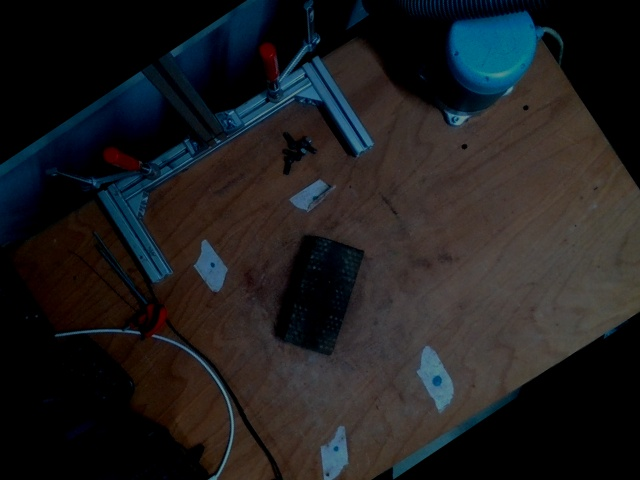brick: (283, 237, 364, 357)
